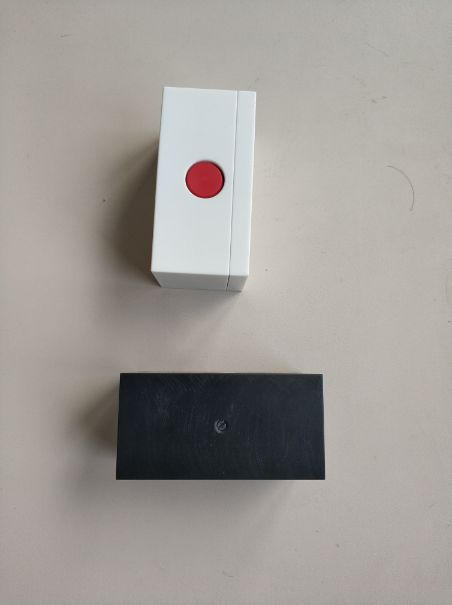white+white+red: (148, 85, 259, 294)
